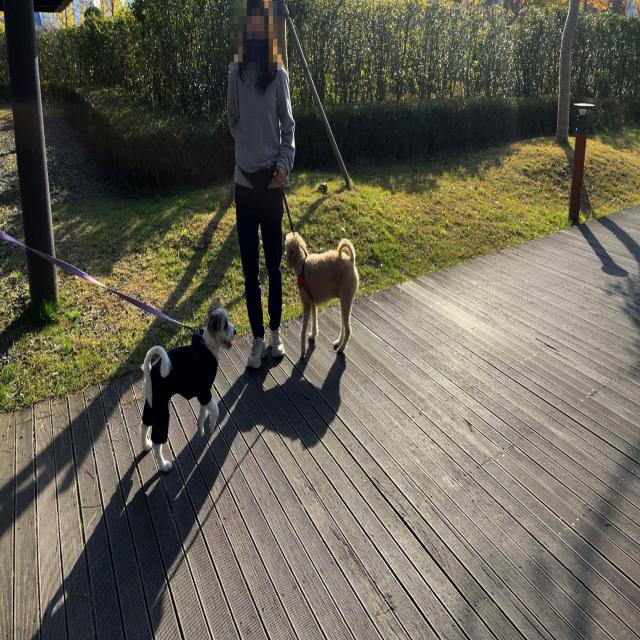Dog: (139, 295, 238, 474)
Leashed_Dog: (267, 178, 359, 361)
